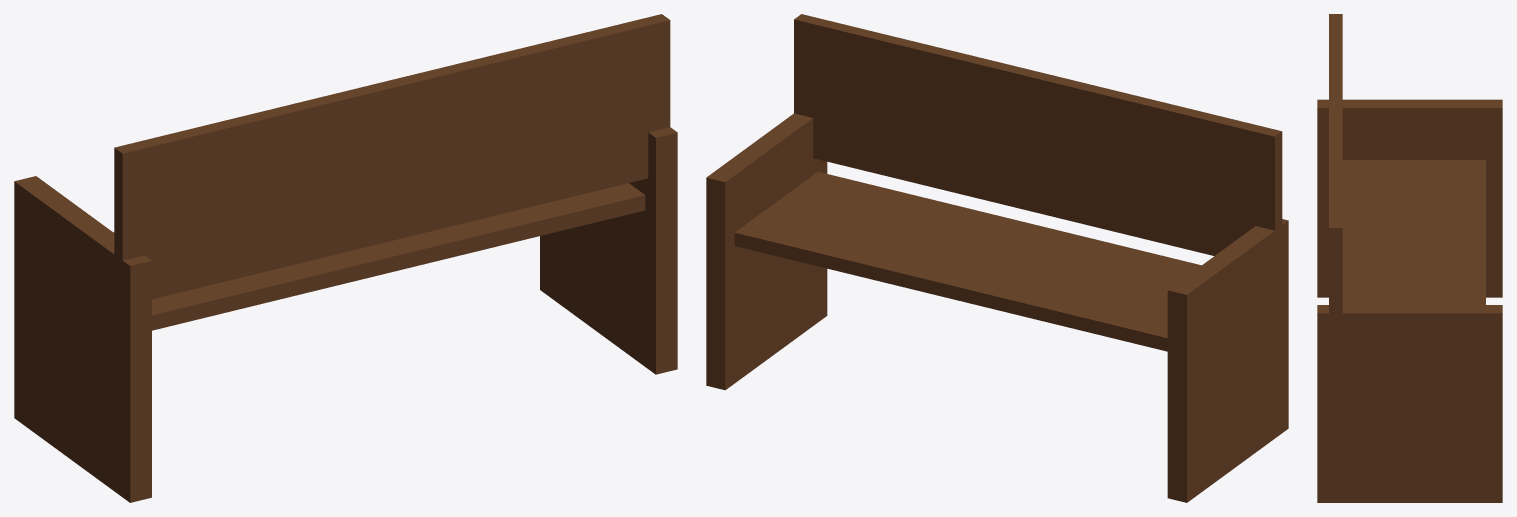
File: furniture.home.garden_bench.glb
3 renders of one model, left to right at view 1: azimuth 30°, elevation 25°; view 2: azimuth 150°, elevation 25°; view 3: azimuth 270°, elevation 25°, orthographic. The views are drawn at different scales.
Visible parts, largest first — view 1: main__hardwood; view 2: main__hardwood; view 3: main__hardwood.
Part boxes in pixels (x1,y1,x2,y2): main__hardwood: (14, 14, 677, 502); main__hardwood: (706, 14, 1288, 502); main__hardwood: (1317, 14, 1502, 502).
Bounding box in the file's own units: 1.5 × 0.9 × 0.55.
